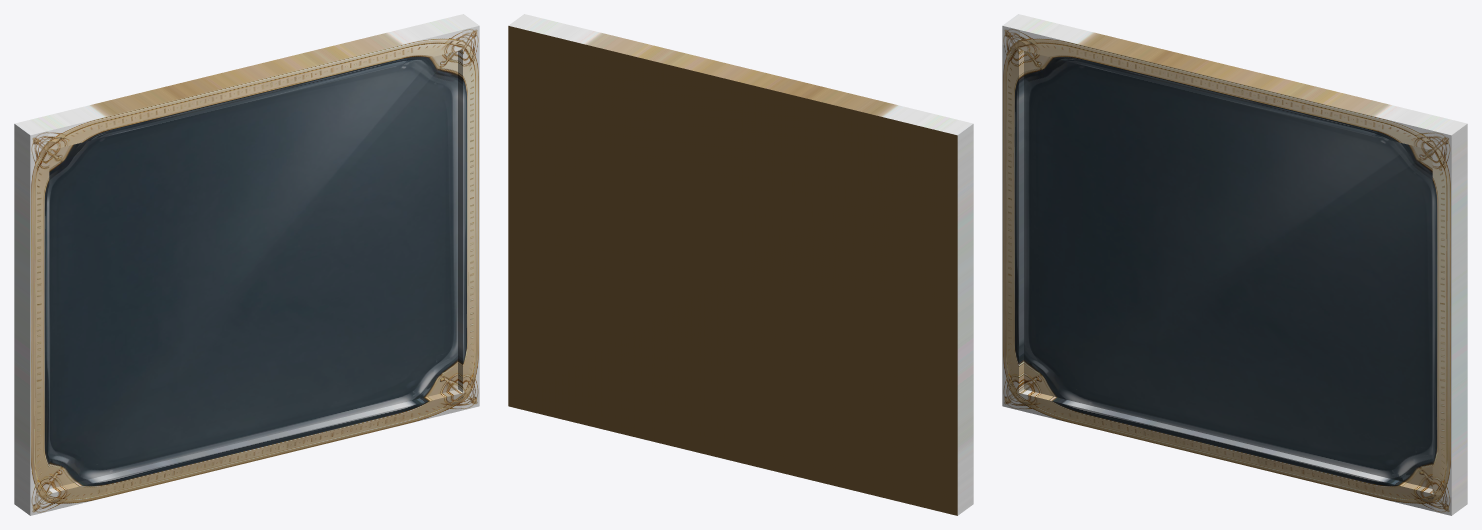
Rendered from panel_result.glb.
3 renders of one model, left to right at view 1: azimuth 30°, elevation 25°; view 2: azimuth 150°, elevation 25°; view 3: azimuth 330°, elevation 25°, orthographic.
Visible parts, largest first — view 1: panel_result; view 2: panel_result; view 3: panel_result.
Boxes of the visible parts, <box> form: panel_result: <box>14,14,479,515</box>; panel_result: <box>508,14,973,515</box>; panel_result: <box>1002,14,1467,515</box>.
Size of the model in its own units: 0.63 by 0.51 by 0.042.
Materials: 1 (1 with a texture image).
